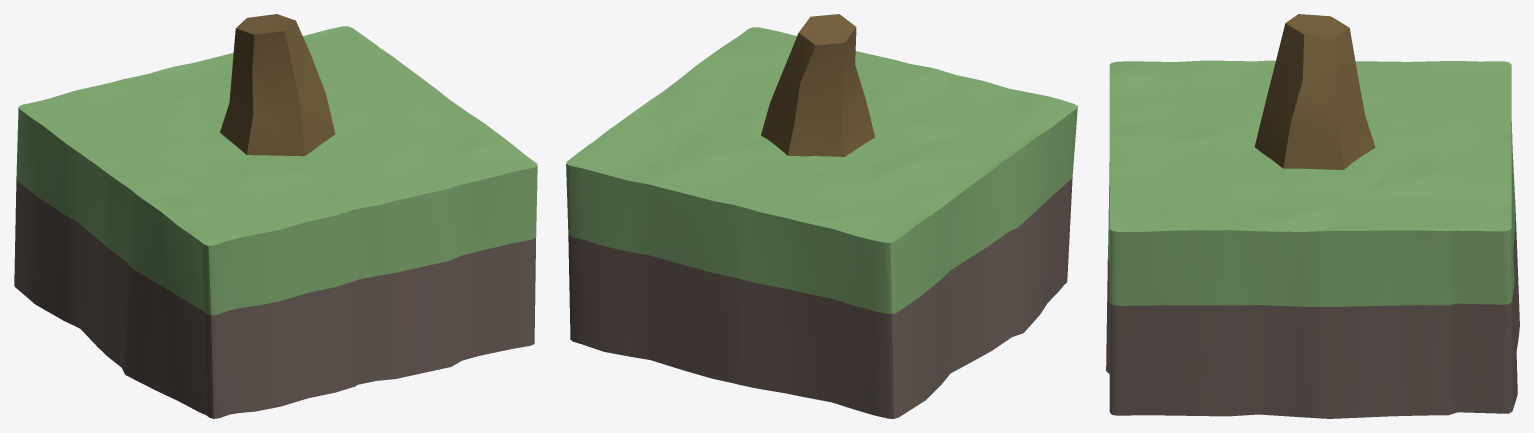
The model's file is tree_stump.fbx.
3 renders of one model, left to right at view 1: azimuth 30°, elevation 25°; view 2: azimuth 150°, elevation 25°; view 3: azimuth 270°, elevation 25°, orthographic. The views are drawn at different scales.
Parts seen in each view (by area): view 1: ground, pCylinder2; view 2: ground, pCylinder2; view 3: ground, pCylinder2.
Boxes of the visible parts, <box> form: ground: <box>14,26,537,418</box>; pCylinder2: <box>220,14,335,156</box>; ground: <box>566,27,1077,418</box>; pCylinder2: <box>761,14,874,156</box>; ground: <box>1106,60,1519,418</box>; pCylinder2: <box>1254,14,1375,169</box>.
Size of the model in its own units: 20.78 by 16.63 by 20.34.
